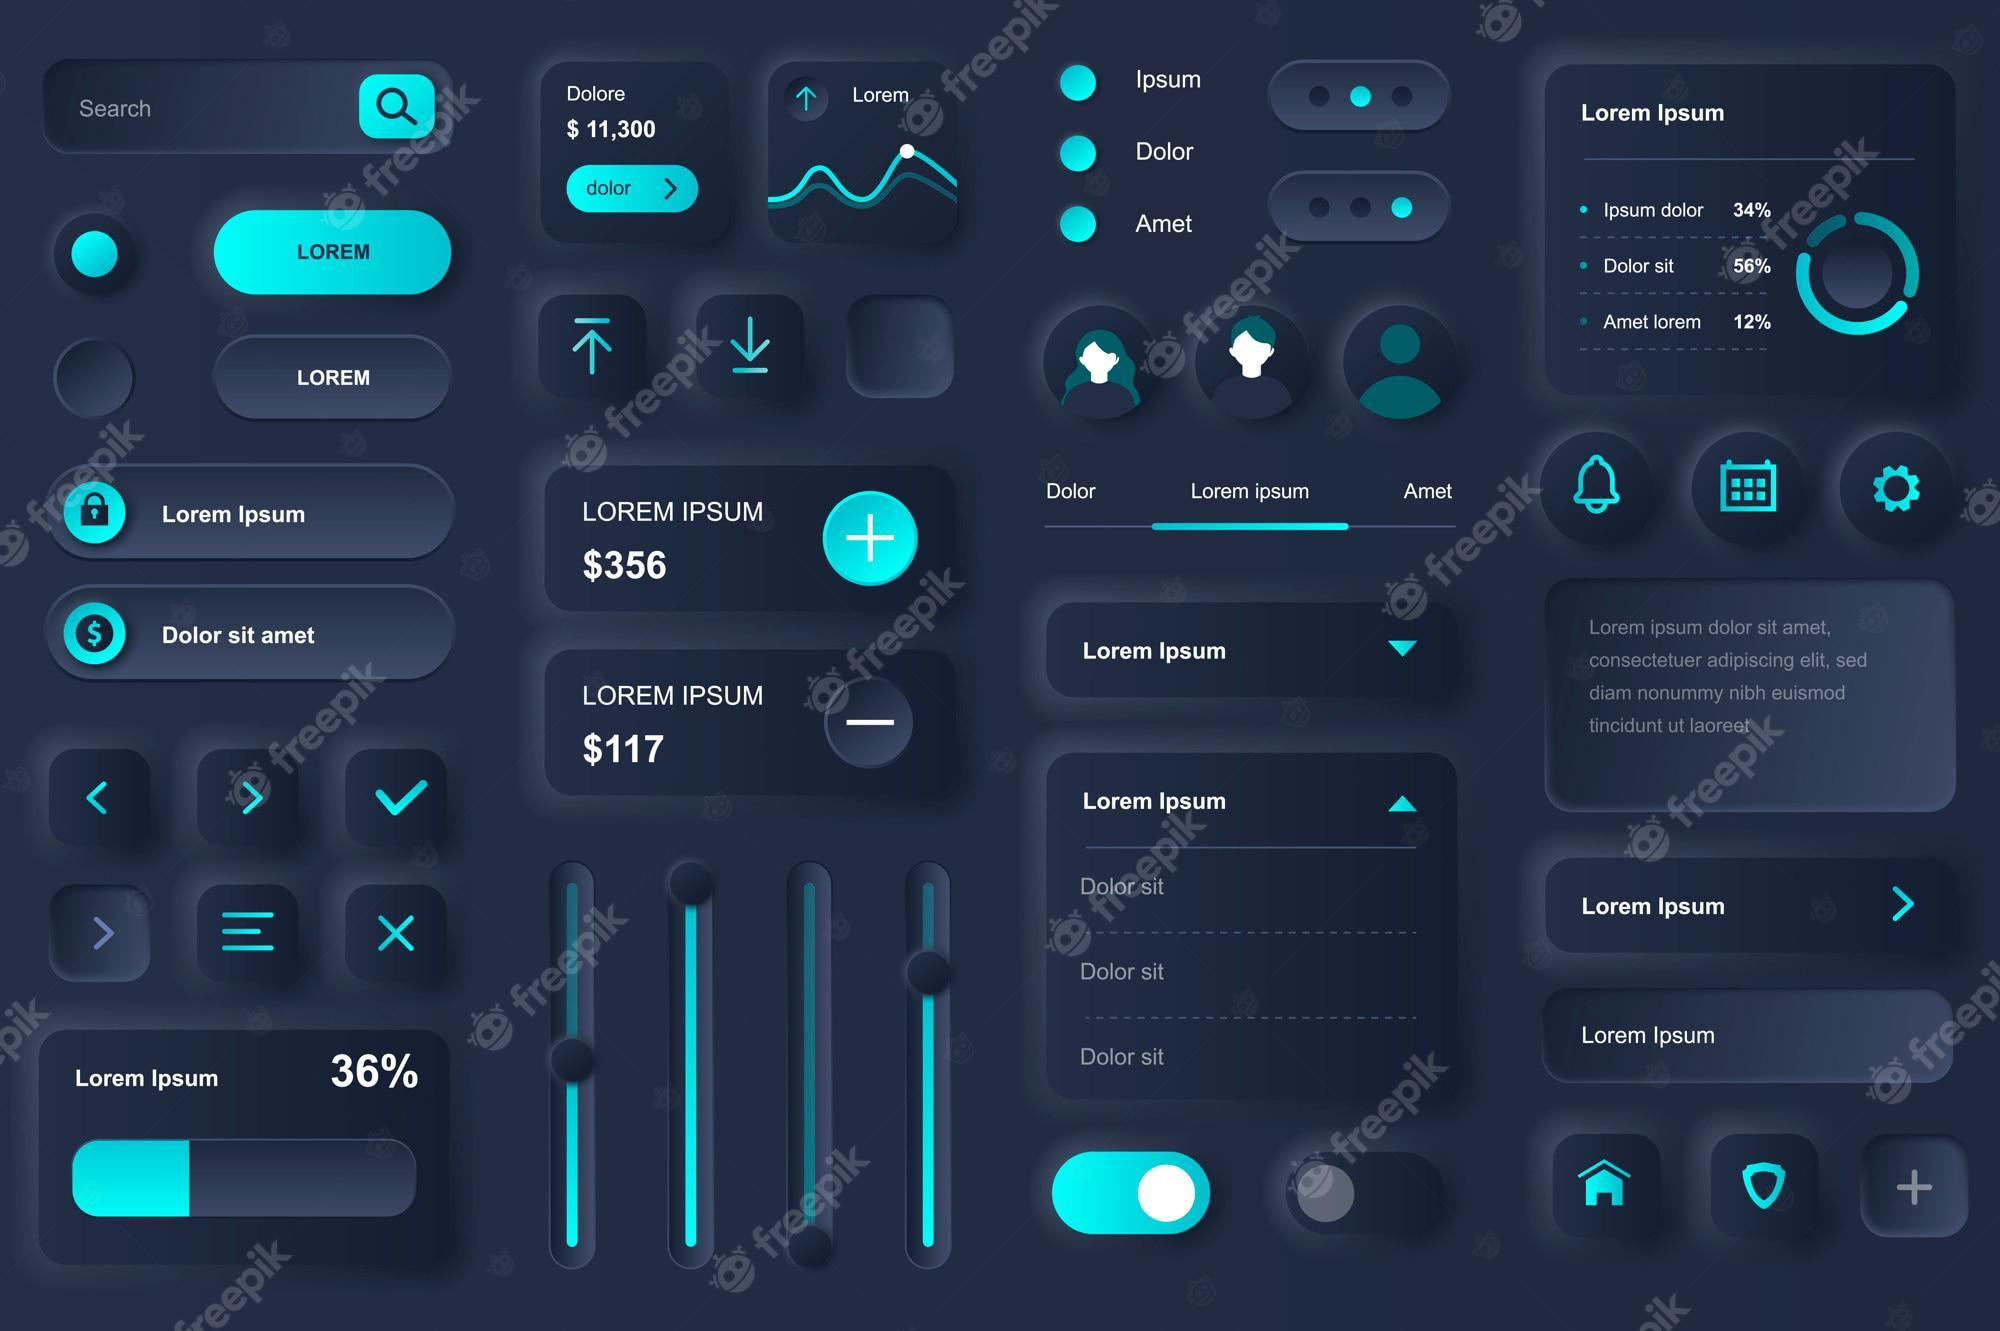button: (45, 584, 457, 680), (61, 463, 445, 556), (215, 205, 456, 300), (209, 333, 454, 423), (569, 165, 699, 214)
dropdown: (1044, 603, 1458, 703), (1042, 750, 1457, 848)
icon: (1840, 426, 1958, 553), (1691, 428, 1810, 547), (1544, 429, 1653, 547), (540, 296, 647, 400), (346, 884, 454, 985), (1713, 1133, 1817, 1237), (1556, 1136, 1663, 1237), (1866, 1136, 1967, 1242), (702, 299, 806, 400), (196, 885, 300, 985), (347, 752, 448, 853), (199, 749, 298, 850), (53, 755, 148, 850), (824, 495, 921, 588), (58, 893, 156, 982), (826, 683, 921, 769), (362, 79, 437, 140)
input: (40, 53, 454, 157)
radio: (53, 333, 140, 423), (53, 211, 137, 300)
slider: (68, 1136, 419, 1220)
switch: (1053, 1148, 1215, 1236), (1289, 1150, 1445, 1239)
